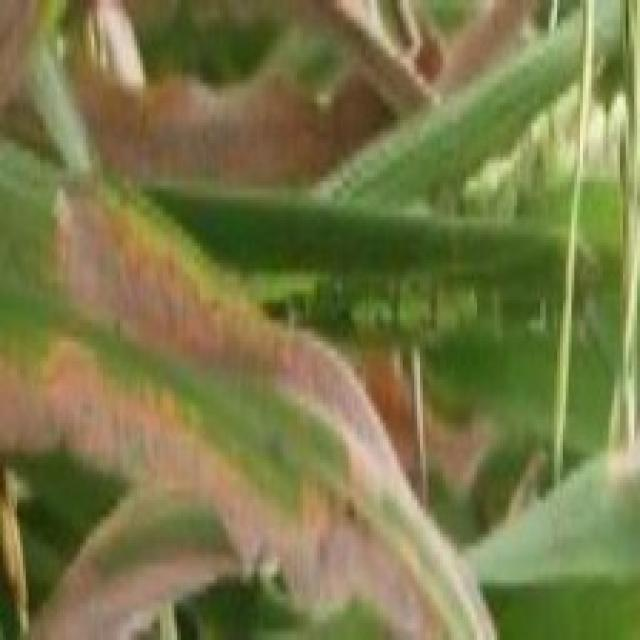Rice___Bacterial_Leaf_Blight: (0, 132, 500, 637)
